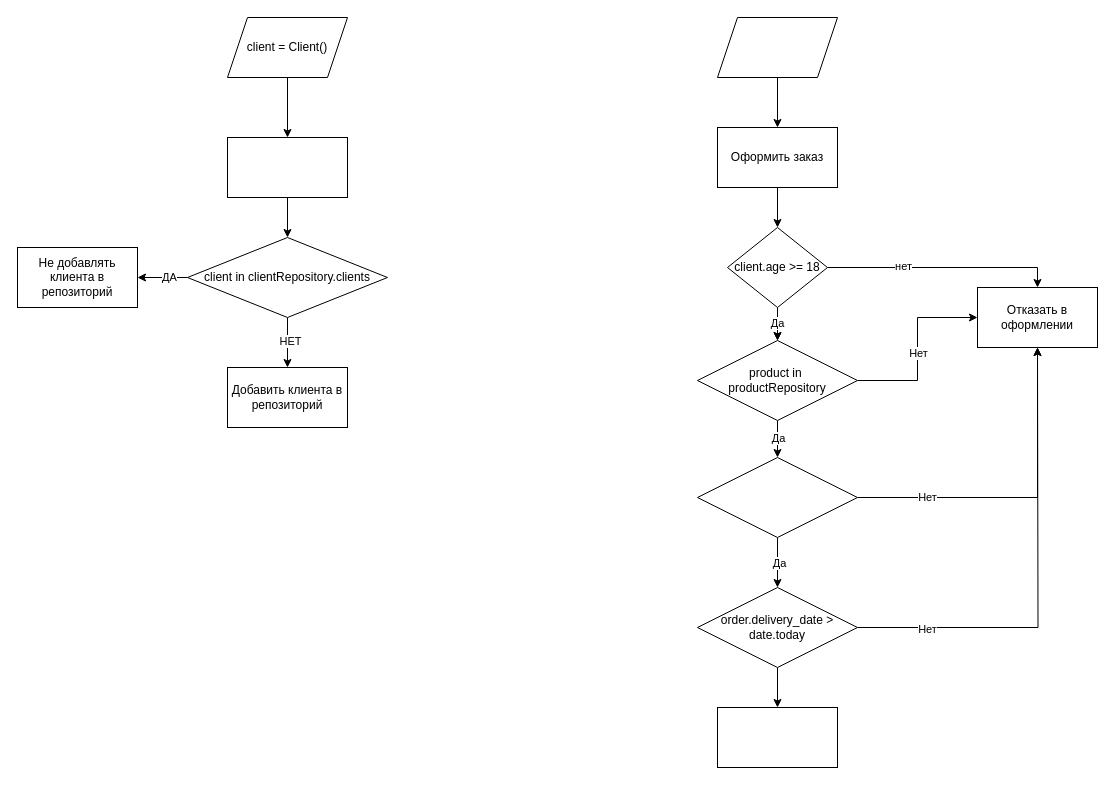
Image size: 1115x785. Some labels were removed from this diagram. The shapes that lost their labels are listed below. From the top down, each one's centre as x and y in pixels, then its label:
the point at 777,47: order = Order()
the point at 287,167: Зарегестрироваться
the point at 777,497: client in clientRepository
the point at 777,737: Добавить заказ в репозиторий
